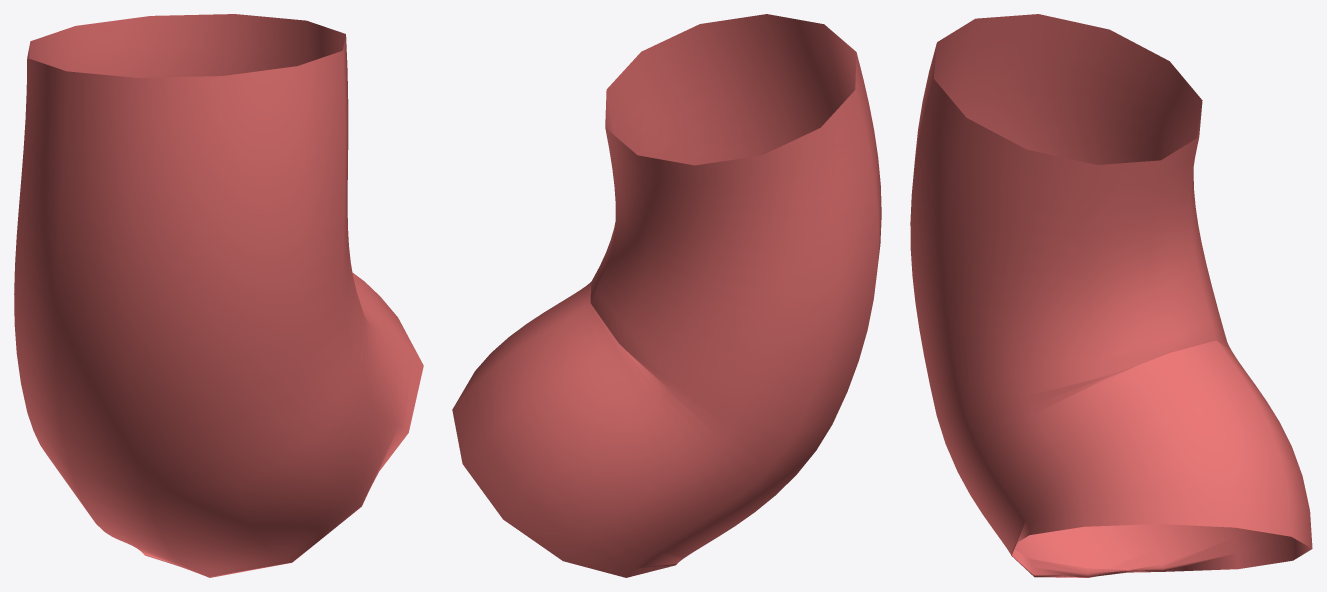
The model's file is Ascending_aorta.glb.
3 views of the same model, side by side, from view 1: azimuth 30°, elevation 25°; view 2: azimuth 150°, elevation 25°; view 3: azimuth 270°, elevation 25° (orthographic). The views are drawn at different scales.
Visible parts, largest first — view 1: Ascending_aorta_BezierCurve.192; view 2: Ascending_aorta_BezierCurve.192; view 3: Ascending_aorta_BezierCurve.192.
Boxes of the visible parts, x1=… form: Ascending_aorta_BezierCurve.192: x1=14, y1=14, x2=423, y2=577; Ascending_aorta_BezierCurve.192: x1=452, y1=14, x2=881, y2=577; Ascending_aorta_BezierCurve.192: x1=910, y1=14, x2=1312, y2=577.
Bounding box in the file's own units: 0.0416 × 0.0555 × 0.0399.
